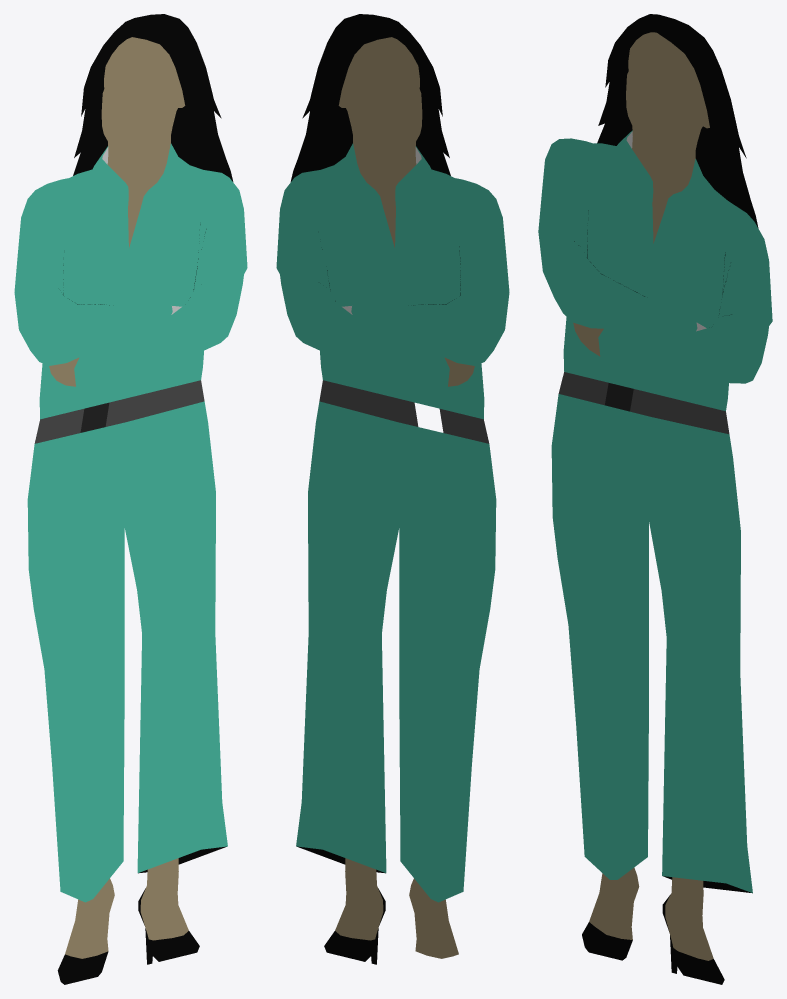
The model's file is 2D_Woman_Standing_Front-scrubs.fbx.
3 views of the same model, side by side, from view 1: azimuth 30°, elevation 25°; view 2: azimuth 150°, elevation 25°; view 3: azimuth 330°, elevation 25° (orthographic).
Visible parts, largest first — view 1: Mesh01; view 2: Mesh01; view 3: Mesh01.
Boxes of the visible parts, x1,y1,x2,y2 form: Mesh01: [14, 14, 247, 984]; Mesh01: [276, 14, 509, 964]; Mesh01: [538, 14, 772, 984].
Bounding box in the file's own units: 25.67 × 100 × 1.08e-13.
